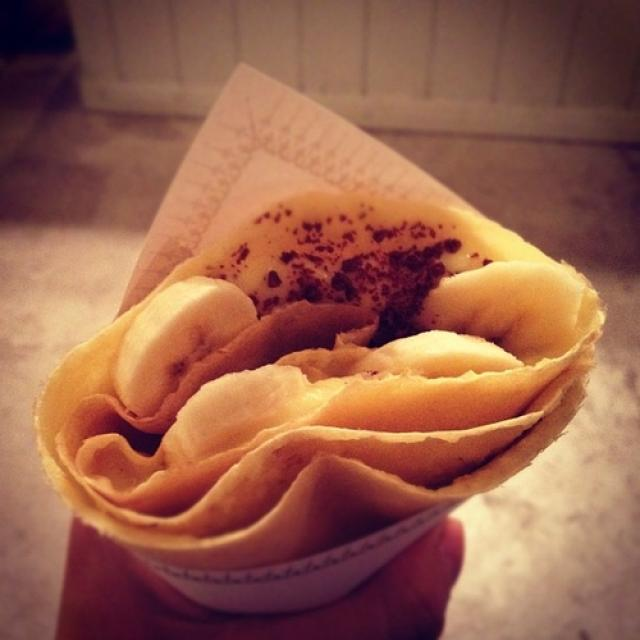牛肉菜式: (48, 91, 584, 528)
